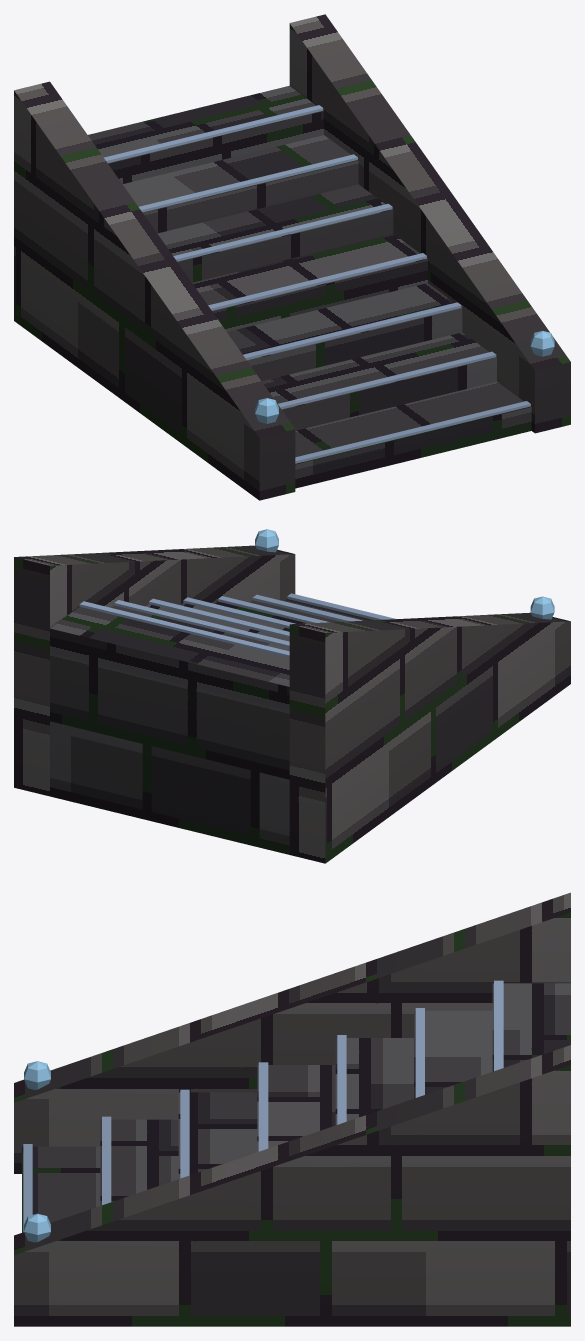
The model's file is mist_stair.glb.
3 renders of one model, top to bottom at view 1: azimuth 30°, elevation 25°; view 2: azimuth 150°, elevation 25°; view 3: azimuth 270°, elevation 25°, orthographic. The views are drawn at different scales.
Visible parts, largest first — view 1: mist_stair; view 2: mist_stair; view 3: mist_stair.
Part boxes in pixels (<box>): mist_stair: <box>14,14,570,500</box>; mist_stair: <box>14,529,570,863</box>; mist_stair: <box>14,892,570,1326</box>.
Bounding box in the file's own units: 2.6 × 1.84 × 3.55.
Materials: 3 (1 with a texture image).
